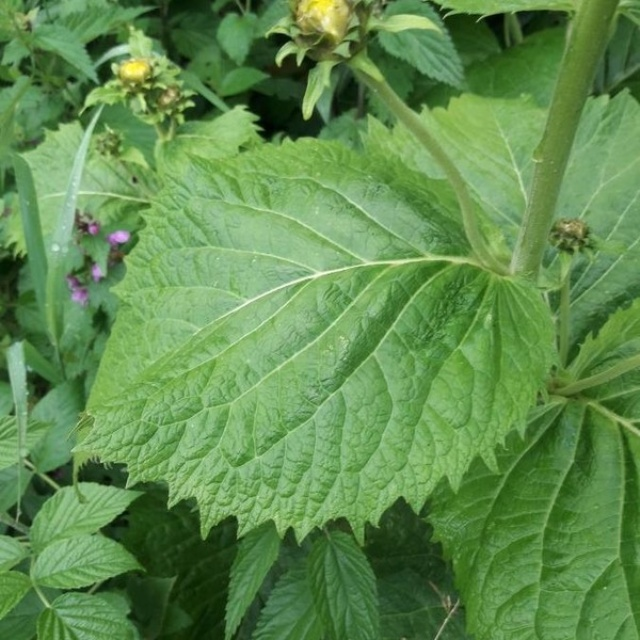obstacle: (78, 89, 608, 624)
